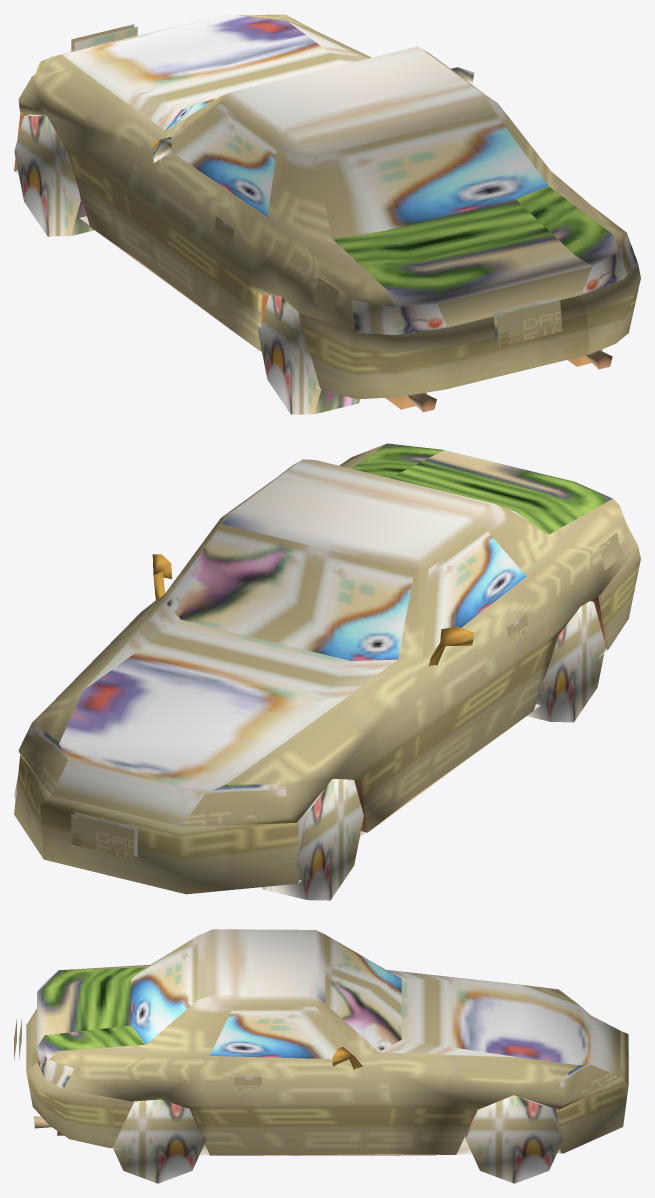
Rendered from i0.ico.obj.
The picture shows the model from 3 angles, top to bottom: view 1: azimuth 30°, elevation 25°; view 2: azimuth 150°, elevation 25°; view 3: azimuth 270°, elevation 25°; orthographic projection. The views are drawn at different scales.
Size of the model in its own units: 2.11 by 1.47 by 4.87.
